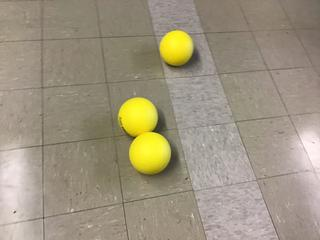power_cell: (126, 133, 172, 172), (115, 97, 159, 136), (159, 29, 195, 67)
